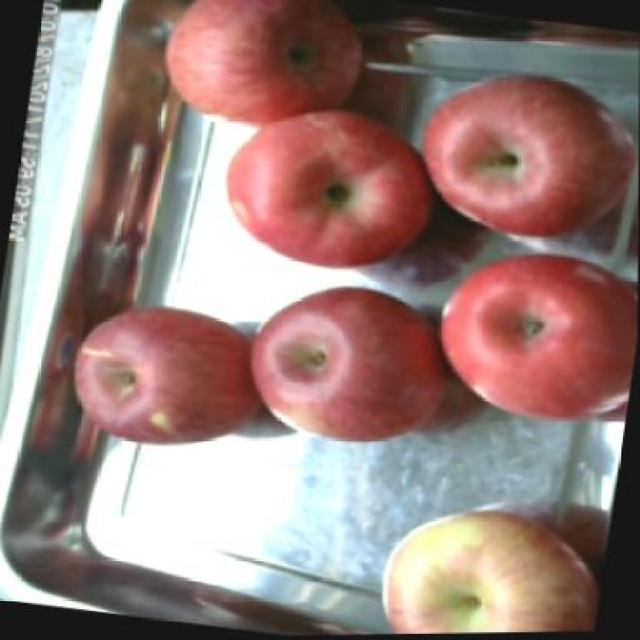Fresh Apple: (376, 497, 610, 640), (431, 74, 631, 241), (258, 289, 448, 453), (53, 301, 256, 449), (450, 267, 638, 424), (225, 118, 426, 260), (160, 3, 368, 123)
